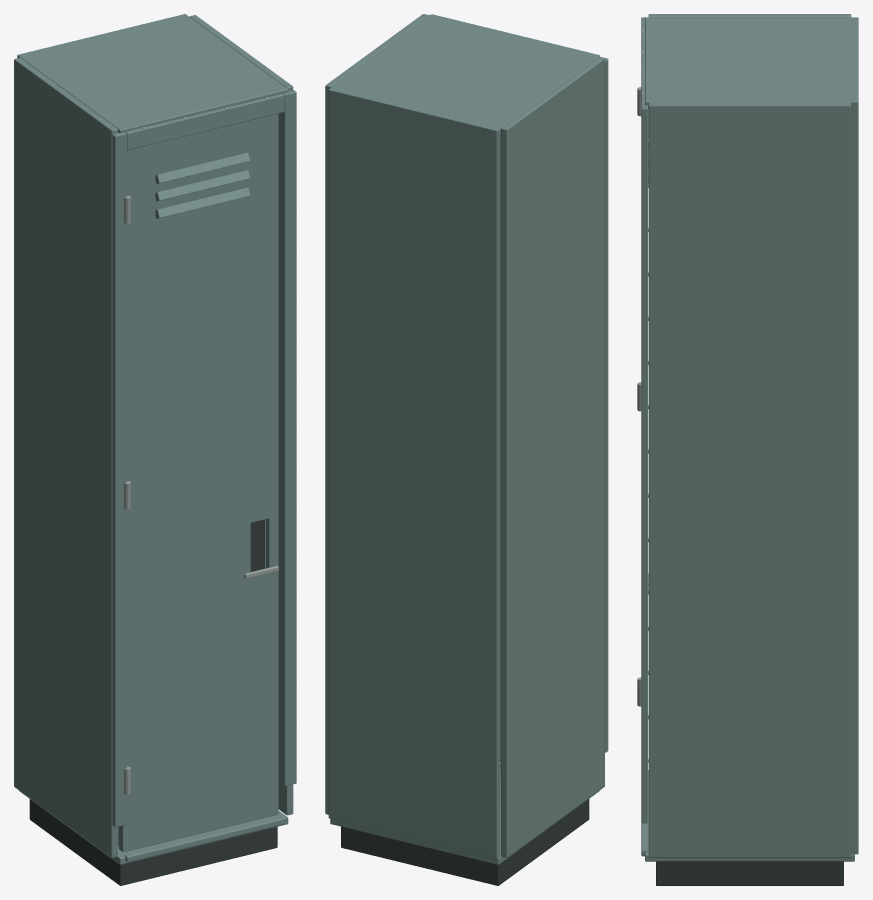
Rendered from storage_locker_module.glb.
The picture shows the model from 3 angles, left to right: view 1: azimuth 30°, elevation 25°; view 2: azimuth 150°, elevation 25°; view 3: azimuth 270°, elevation 25°; orthographic projection. The views are drawn at different scales.
Visible parts, largest first — view 1: Door, SidePanel_L, TopPanel, SurroundStile_R, SurroundStile_L, KickPlate, SidePanel_R, SurroundHead, DoorVents, SurroundSill, BottomPanel, HandlePocket (+2 smaller); view 2: BackPanel, SidePanel_L, TopPanel, KickPlate, SidePanel_R, SurroundStile_L, BottomPanel, Door; view 3: SidePanel_R, TopPanel, BackPanel, SurroundStile_R, KickPlate, BottomPanel, SidePanel_L.
Boxes of the visible parts, x1,y1,x2,y2 form: Door: (119, 113, 278, 852); SidePanel_L: (14, 57, 117, 858); TopPanel: (20, 16, 288, 133); SurroundStile_R: (282, 90, 296, 785); SurroundStile_L: (112, 132, 126, 827); KickPlate: (29, 799, 277, 885); SidePanel_R: (189, 15, 293, 815); SurroundHead: (126, 94, 284, 150); DoorVents: (155, 152, 250, 218); SurroundSill: (124, 817, 284, 862); BottomPanel: (19, 790, 288, 864); HandlePocket: (250, 519, 264, 571); BackPanel: (328, 87, 500, 859); SidePanel_L: (501, 57, 604, 857); TopPanel: (332, 14, 599, 134); KickPlate: (341, 767, 589, 885); SidePanel_R: (325, 14, 429, 814); SurroundStile_L: (600, 56, 608, 752); BottomPanel: (330, 768, 599, 864); Door: (500, 134, 500, 761); SidePanel_R: (648, 102, 851, 857); TopPanel: (645, 17, 853, 108); BackPanel: (851, 17, 858, 854); SurroundStile_R: (641, 103, 647, 823); KickPlate: (656, 861, 843, 885); BottomPanel: (645, 770, 854, 861); SidePanel_L: (648, 14, 851, 17).
Size of the model in its own units: 0.6004 by 2.4 by 0.611.
